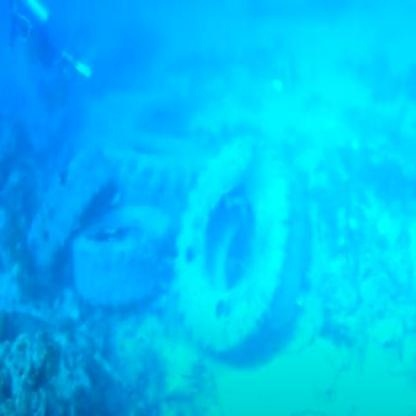tire: (174, 140, 312, 374), (45, 171, 169, 301), (31, 135, 109, 254)
